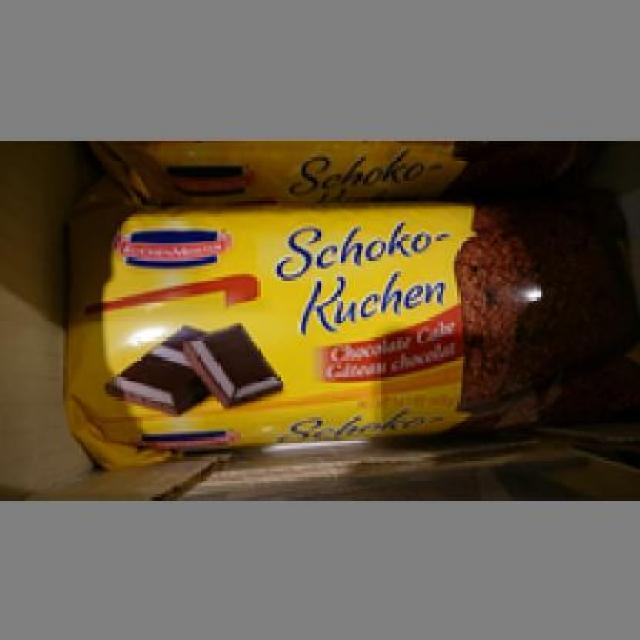Cake: (42, 200, 628, 460)
